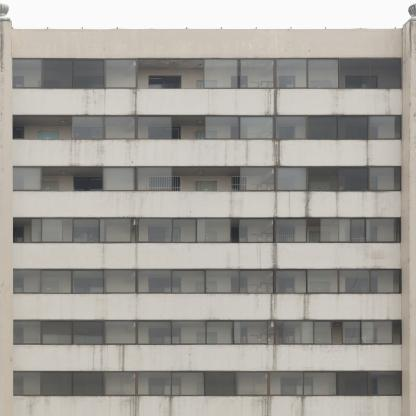Balcony: (0, 294, 416, 316), (0, 140, 416, 162), (0, 89, 416, 110), (0, 345, 416, 366), (0, 243, 416, 264), (0, 192, 416, 213), (0, 396, 416, 416)
Building Outline: (0, 3, 416, 416)
Door: (310, 80, 330, 108), (310, 281, 330, 309), (310, 232, 330, 260), (310, 181, 330, 209), (38, 80, 58, 108), (38, 383, 58, 411), (38, 332, 58, 360), (38, 281, 58, 309), (38, 232, 58, 260), (38, 181, 58, 209), (310, 131, 330, 159), (38, 131, 58, 159), (310, 332, 330, 360), (197, 80, 217, 108), (197, 383, 217, 411), (197, 332, 217, 360), (197, 281, 217, 309), (197, 232, 217, 260), (197, 181, 217, 209), (197, 131, 217, 159)
Facade: (0, 3, 415, 416)
Floor: (0, 268, 416, 316), (0, 114, 416, 162), (0, 217, 416, 264), (0, 166, 416, 213), (0, 320, 416, 366), (0, 370, 416, 415)
Floor Slab: (0, 366, 416, 370), (0, 111, 416, 115), (0, 162, 416, 166), (0, 214, 416, 218), (0, 264, 416, 268), (0, 316, 416, 320)
Top Floor: (0, 29, 416, 110)
Window: (13, 59, 402, 89), (13, 371, 402, 396), (13, 115, 402, 140), (13, 166, 402, 191), (13, 218, 402, 243), (13, 269, 402, 294), (13, 320, 402, 345), (345, 277, 377, 301), (345, 227, 377, 251), (149, 277, 181, 301), (149, 227, 181, 251), (73, 277, 105, 301), (73, 227, 105, 251), (346, 76, 378, 99), (281, 378, 313, 401), (345, 327, 377, 350), (346, 177, 378, 200), (346, 126, 378, 149), (149, 76, 181, 99), (149, 378, 181, 401), (149, 327, 181, 350), (149, 177, 181, 200), (149, 126, 181, 149), (74, 76, 106, 99), (73, 378, 105, 401), (73, 327, 105, 350), (74, 177, 106, 200), (74, 126, 106, 149), (345, 378, 377, 401), (279, 327, 296, 351), (231, 327, 248, 351), (279, 176, 296, 200), (231, 176, 248, 200), (279, 227, 296, 251), (231, 227, 248, 251), (279, 76, 296, 99), (231, 76, 248, 99), (279, 127, 296, 150), (231, 127, 248, 150), (279, 278, 296, 301), (231, 278, 248, 301), (13, 378, 25, 402), (13, 126, 25, 150), (13, 277, 25, 301), (13, 327, 25, 351), (13, 76, 25, 99), (13, 176, 25, 199), (13, 227, 25, 250)
